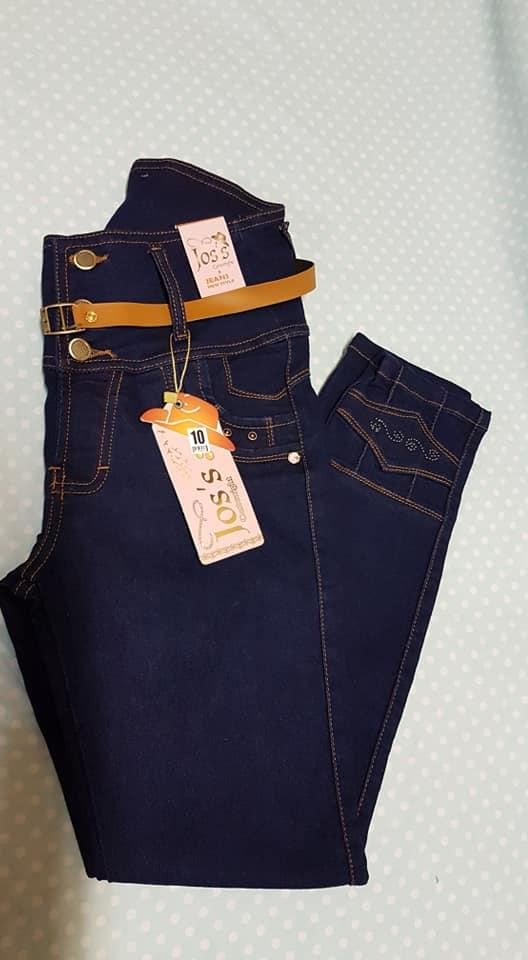Jeans: (0, 142, 508, 901)
